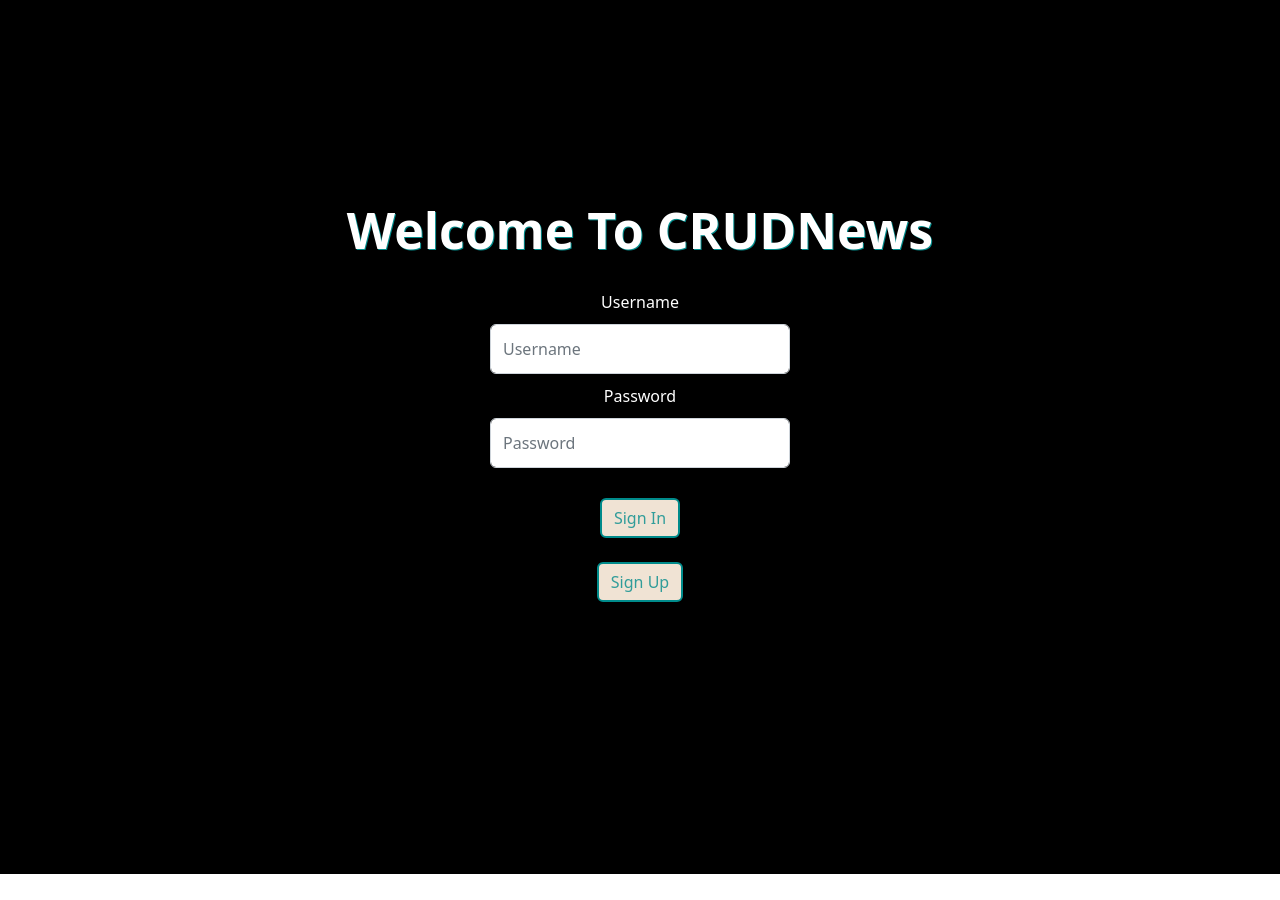
Test: SignInPage › shows an error when server does not respond
The width and height of the screenshot is (1280, 900).
Type "user1" into the field labelled "Username" at (640, 349), box [490,324,790,374]
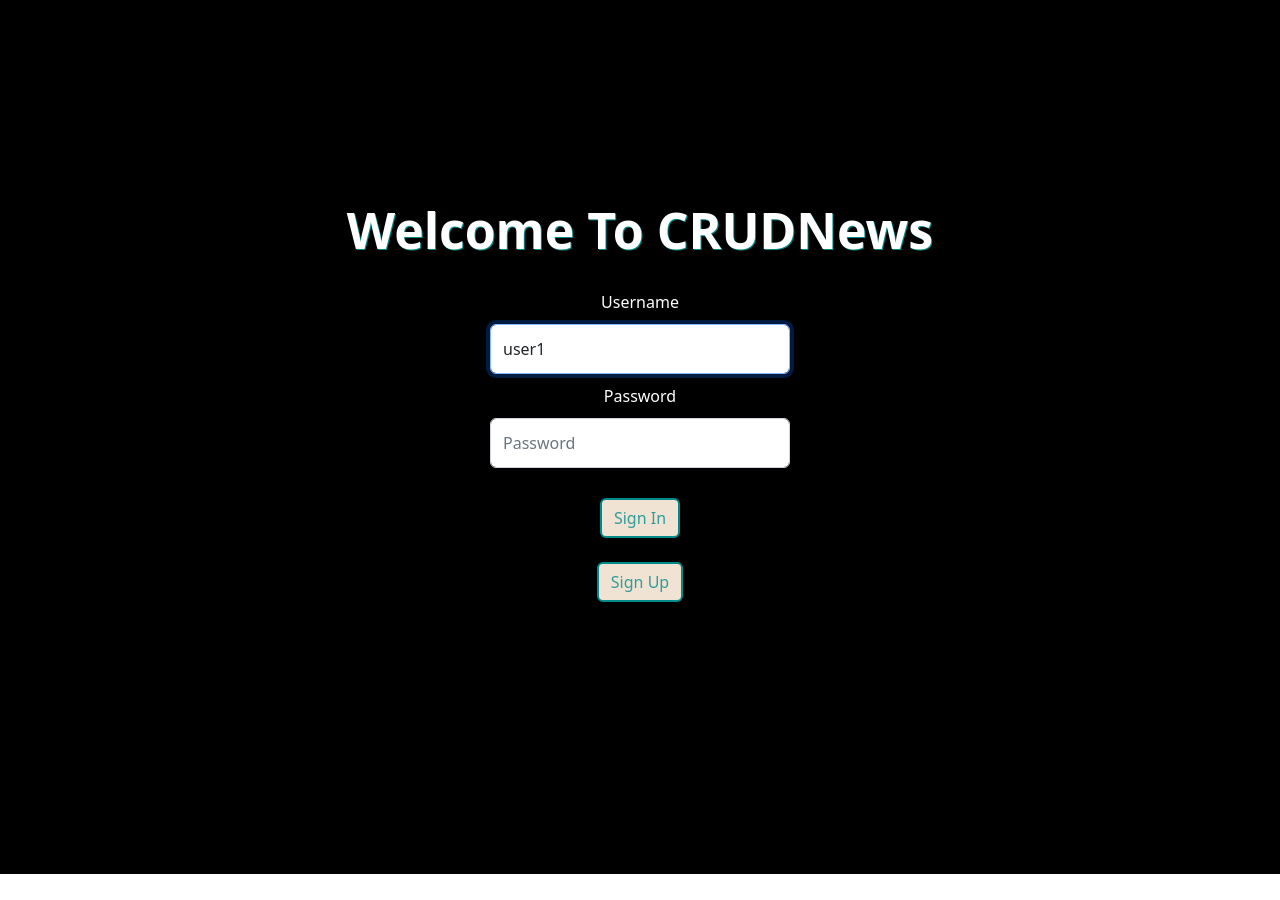
Type "Password1!" into the password field labelled "Password" at (640, 443), box [490,418,790,468]
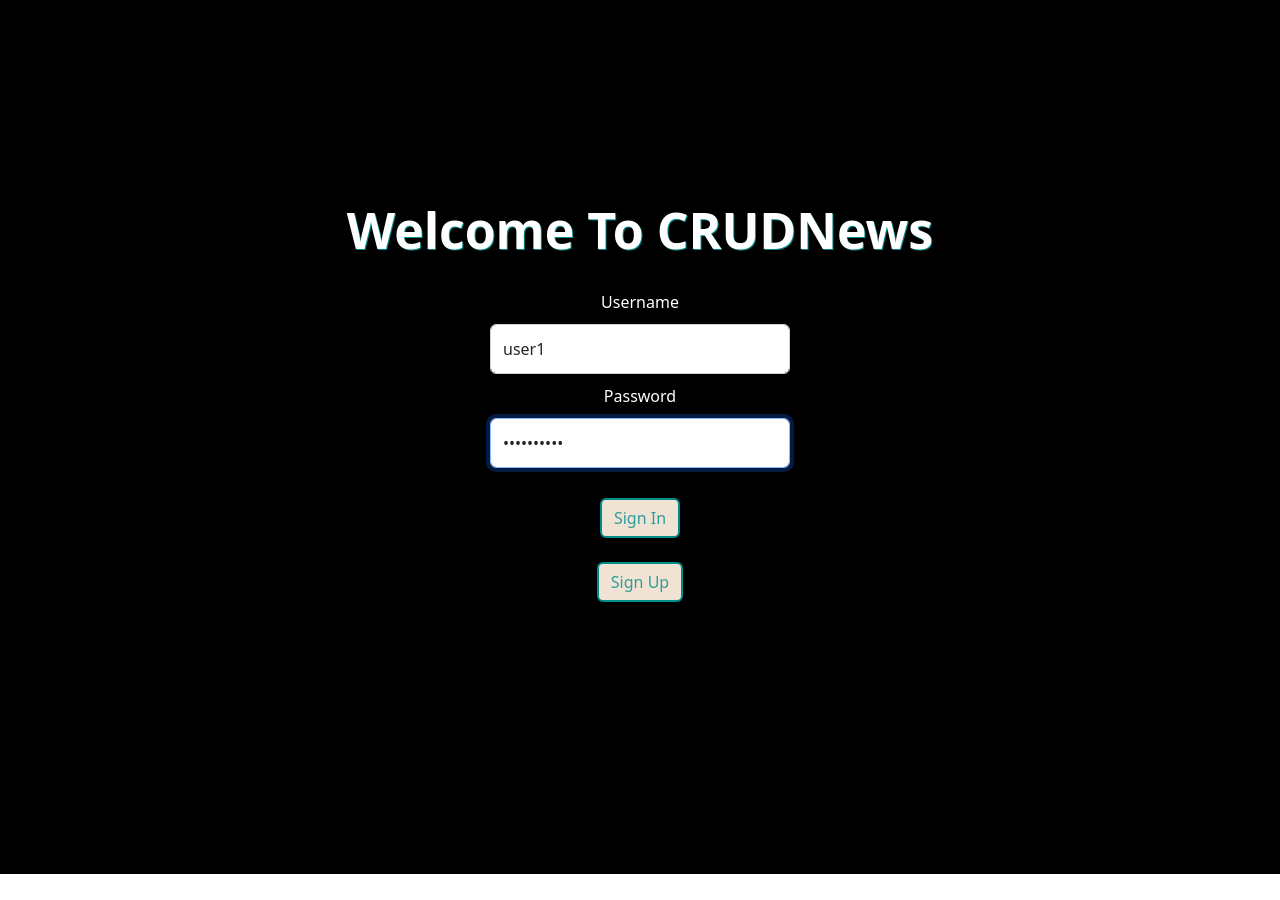
Click the button "Sign In" at (640, 518), box [600,498,680,538]
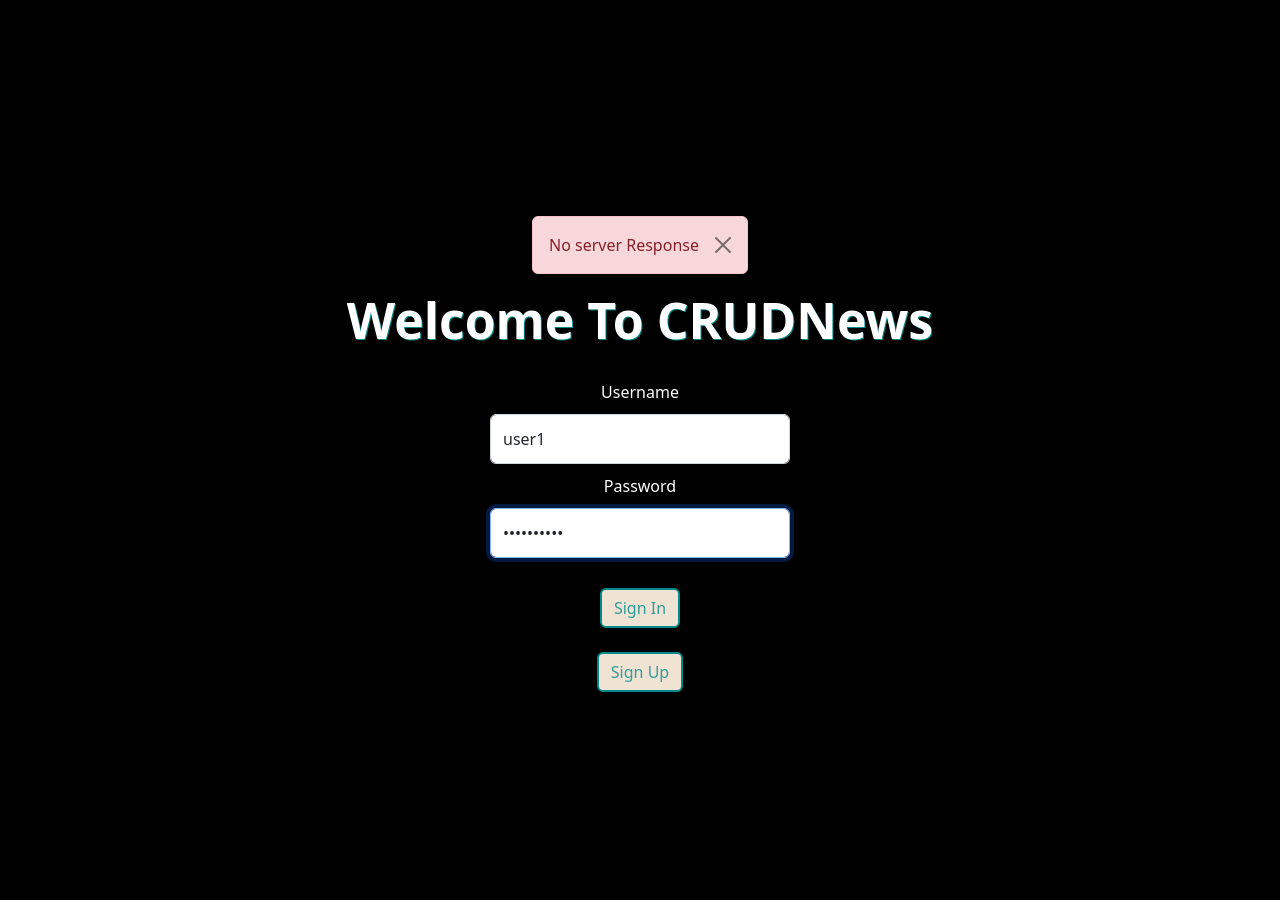
Expected: the text "No server Response" is shown, [532,216,748,274]
